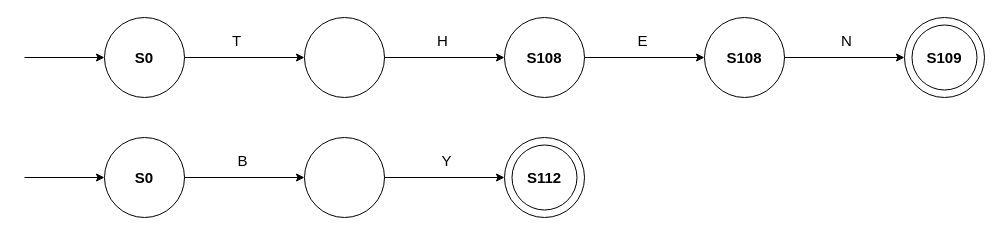
The diagram is 1002 pixels wide and 235 high, and some of its shapes have lost their labels. Each missing label, with the centre of its shape:
S107: the point at 344,57
S111: the point at 344,177
